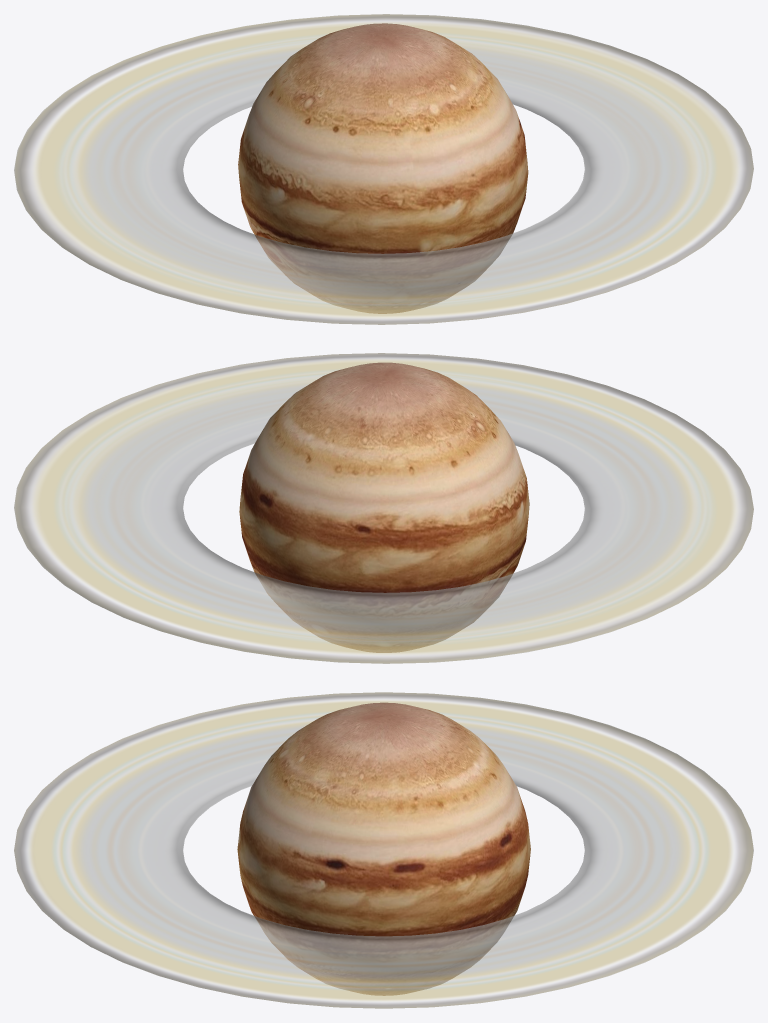
Rendered from planet_jupiter_wrong.glb.
The picture shows the model from 3 angles, top to bottom: view 1: azimuth 30°, elevation 25°; view 2: azimuth 150°, elevation 25°; view 3: azimuth 270°, elevation 25°; orthographic projection.
Parts seen in each view (by area): view 1: Jupiter_07 - Default_0.001, Jupiter_01 - Default_0.001; view 2: Jupiter_07 - Default_0.001, Jupiter_01 - Default_0.001; view 3: Jupiter_07 - Default_0.001, Jupiter_01 - Default_0.001.
Boxes of the visible parts, box(x1,y1,x2,y2) form: Jupiter_07 - Default_0.001: box(14, 14, 753, 324); Jupiter_01 - Default_0.001: box(238, 23, 528, 313); Jupiter_07 - Default_0.001: box(14, 353, 753, 663); Jupiter_01 - Default_0.001: box(239, 362, 529, 652); Jupiter_07 - Default_0.001: box(14, 692, 753, 1008); Jupiter_01 - Default_0.001: box(237, 702, 530, 995).
Size of the model in its own units: 2.74 by 1.07 by 2.71.
2 materials, 2 textured.
